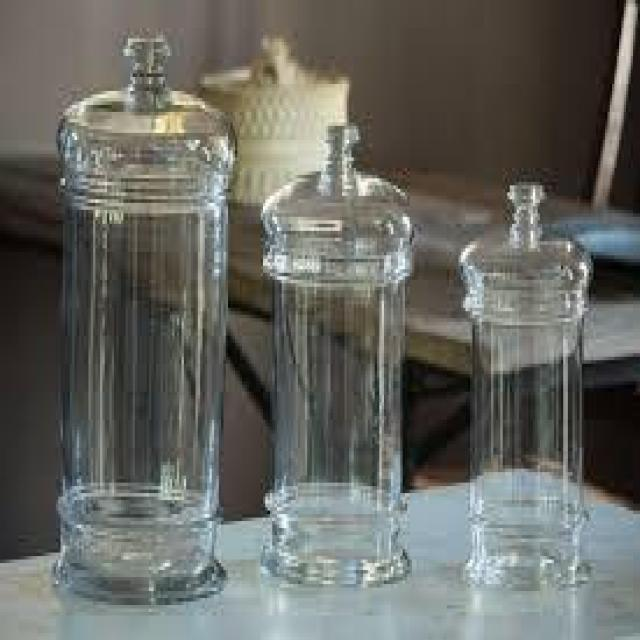Glass: (56, 28, 240, 608), (260, 124, 420, 591), (456, 178, 596, 594)
